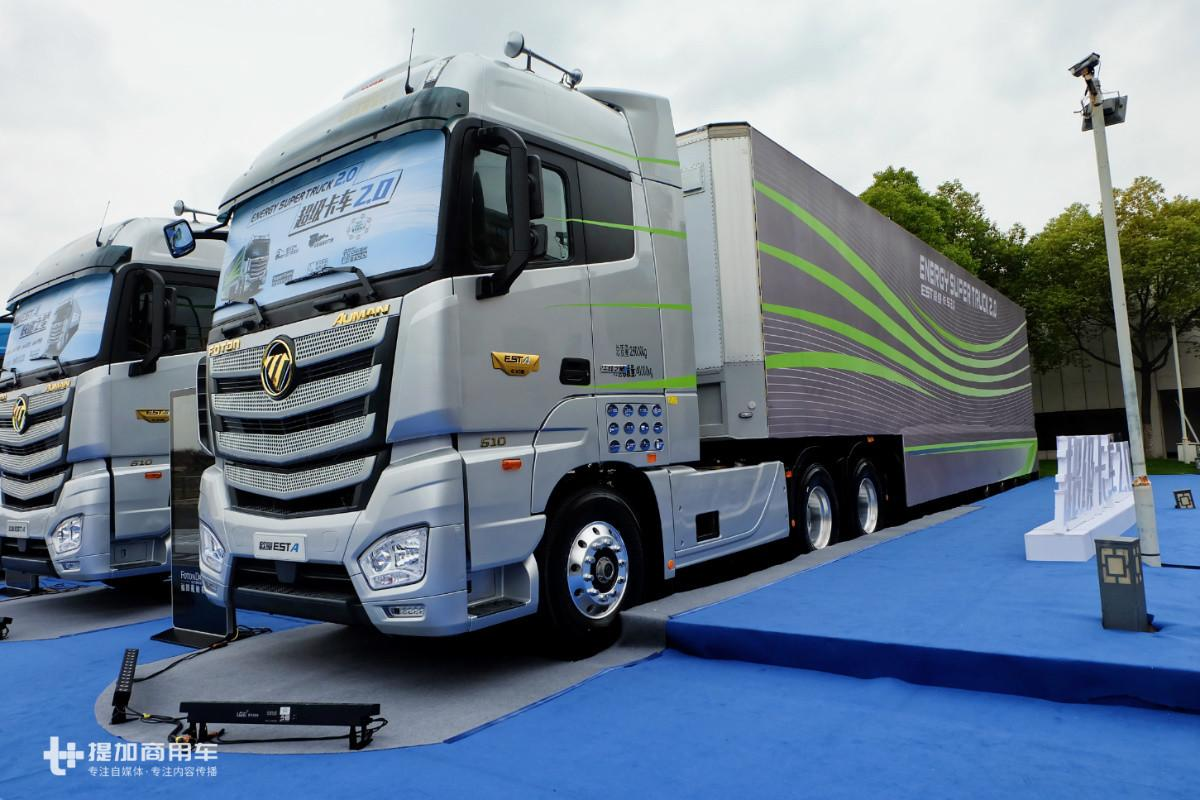truck: (186, 61, 1047, 650)
